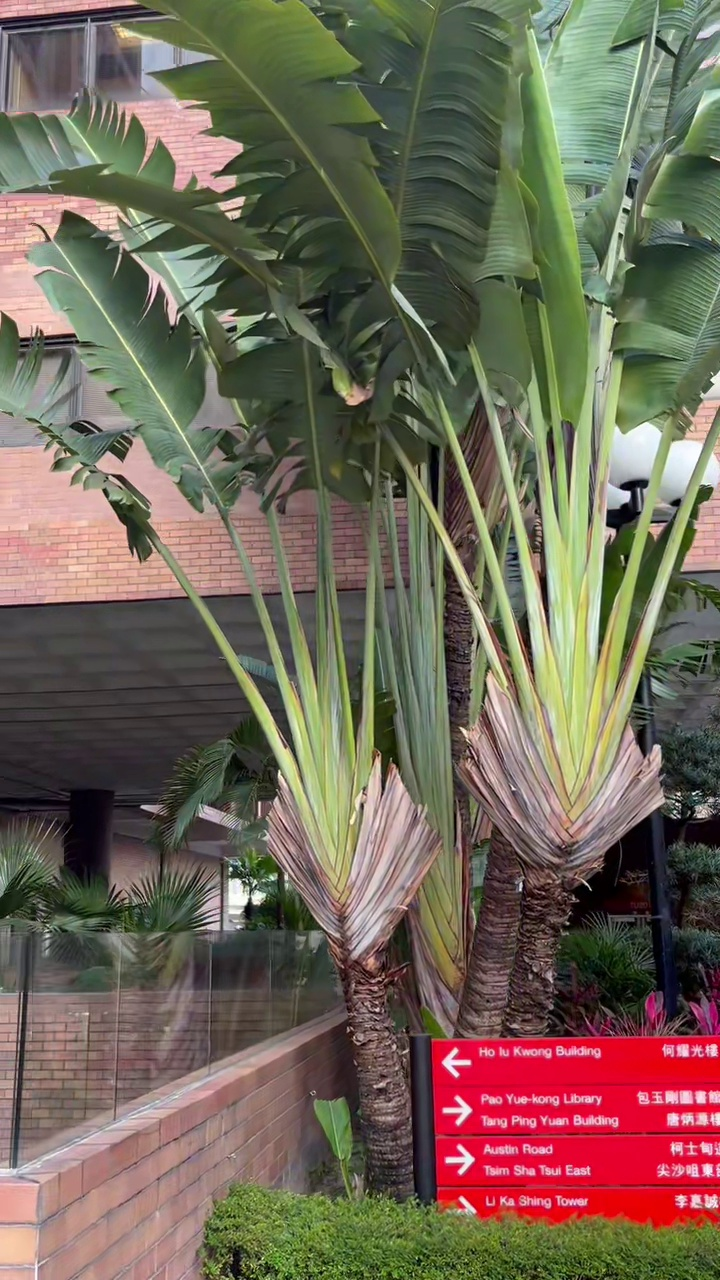Travellers-tree: (0, 0, 719, 1194)
